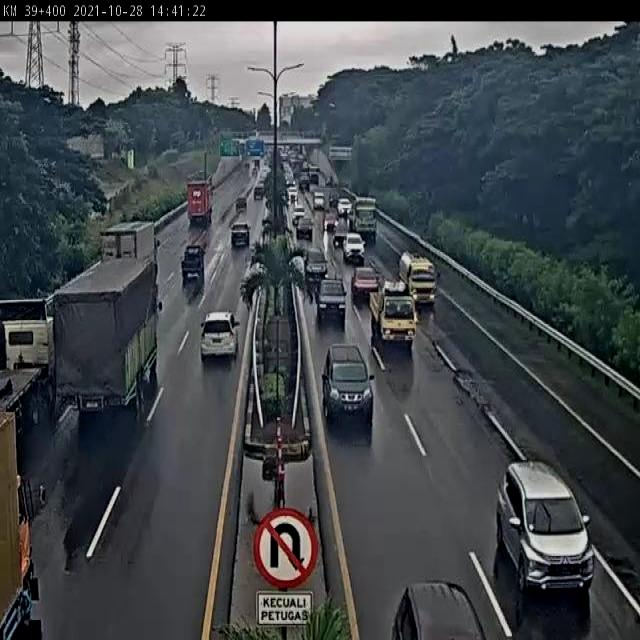Car: (504, 448, 598, 601), (388, 580, 490, 639), (321, 343, 373, 433), (366, 290, 415, 345), (200, 311, 240, 363), (178, 239, 210, 295), (346, 269, 388, 309), (316, 276, 348, 328), (304, 246, 327, 284), (342, 232, 366, 264)
Truck: (54, 260, 158, 431), (92, 218, 162, 271), (392, 244, 439, 313)
